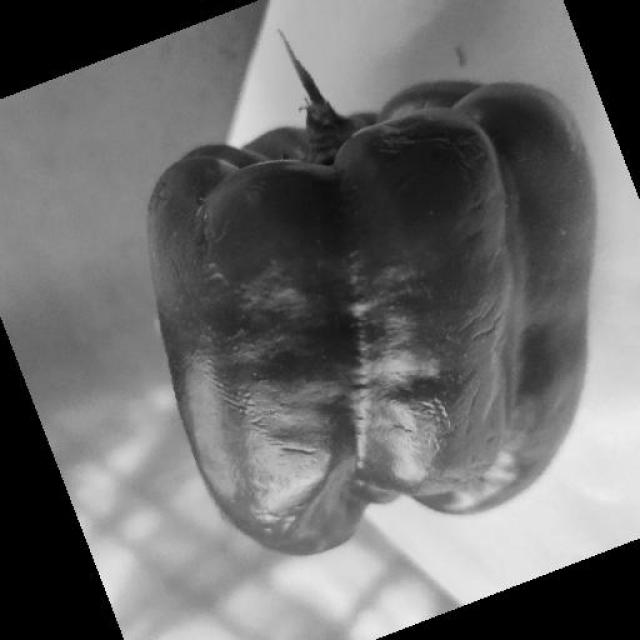Stale_Capsicum: (109, 134, 620, 534)
